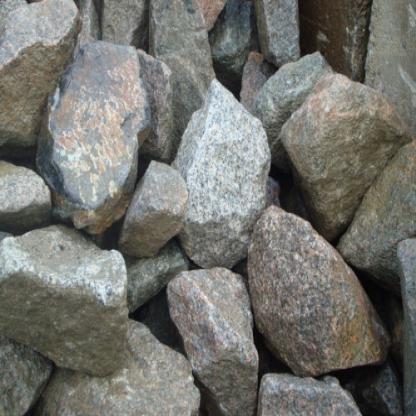Igneous_Granite: (240, 196, 390, 369), (273, 63, 413, 205), (44, 28, 142, 225), (0, 237, 134, 371), (154, 262, 269, 410), (174, 72, 264, 252), (0, 0, 85, 134), (251, 358, 364, 415), (1, 152, 55, 220)
